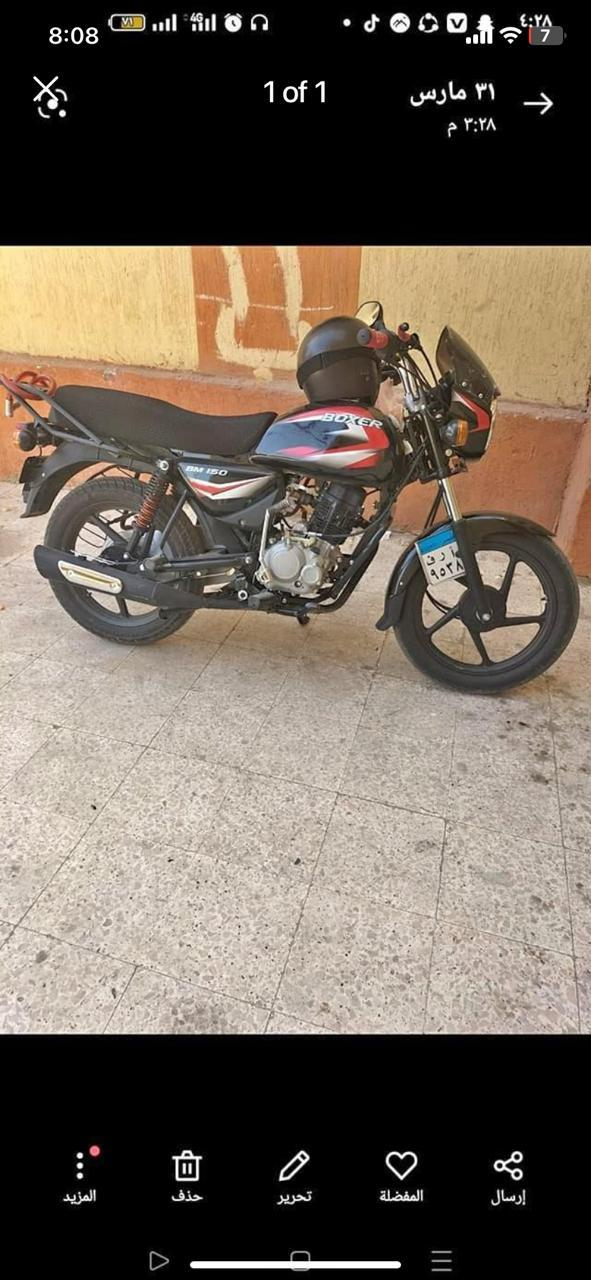License Plate: (417, 527, 468, 585)
